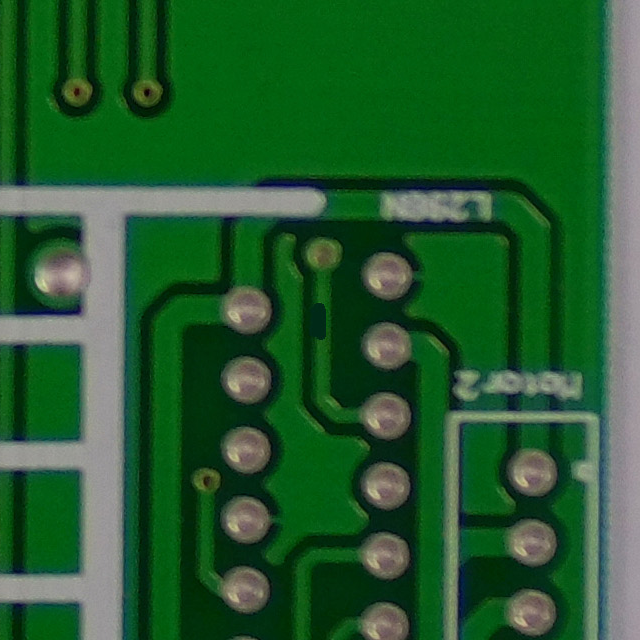mouse_bite: (293, 283, 347, 357)
